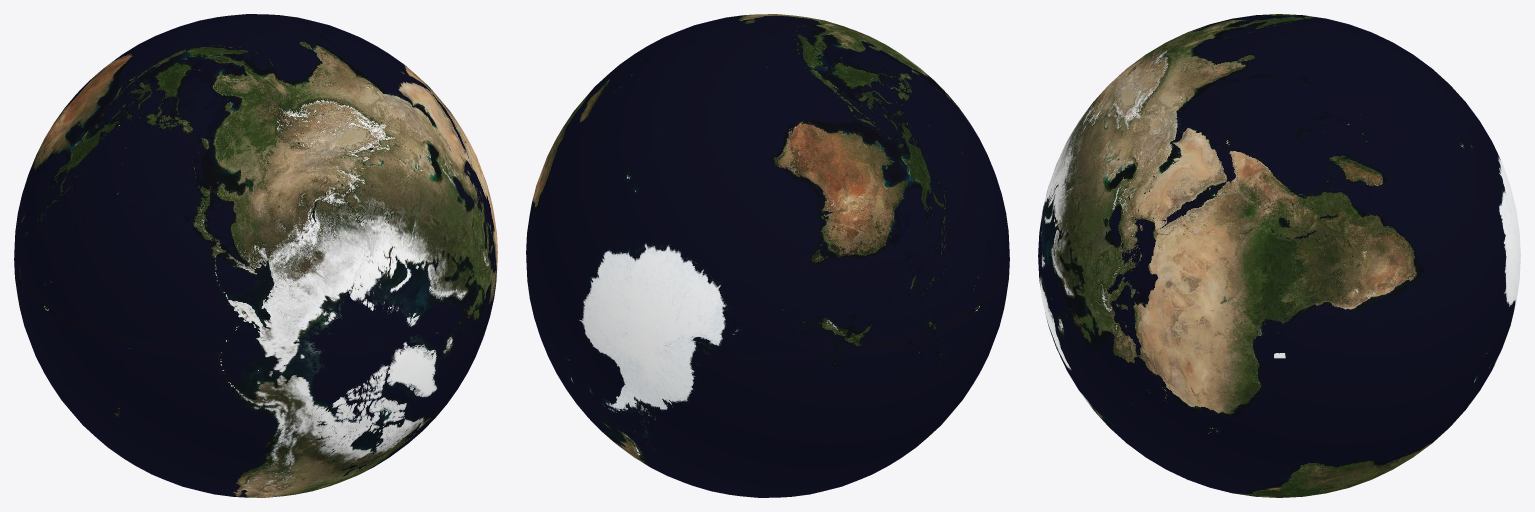
3 renders of one model, left to right at view 1: azimuth 30°, elevation 25°; view 2: azimuth 150°, elevation 25°; view 3: azimuth 270°, elevation 25°, orthographic.
Visible parts, largest first — view 1: DefaultName.006, DefaultName.003; view 2: DefaultName.006, DefaultName.003; view 3: DefaultName.006, DefaultName.003.
Boxes of the visible parts, x1,y1,x2,y2 form: DefaultName.006: (14,14,497,357); DefaultName.003: (14,260,497,497); DefaultName.006: (526,14,1009,357); DefaultName.003: (526,260,1009,497); DefaultName.006: (1038,14,1520,358); DefaultName.003: (1038,260,1520,497).
Size of the model in its own units: 127563 by 127563 by 127135.
Materials: 4 (2 with a texture image).
